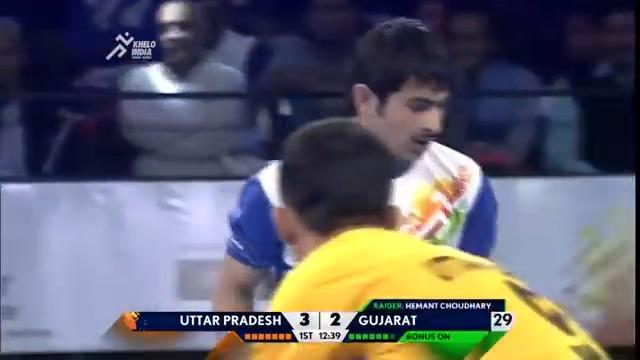Player: (262, 116, 612, 358)
Raider: (207, 15, 499, 344)
